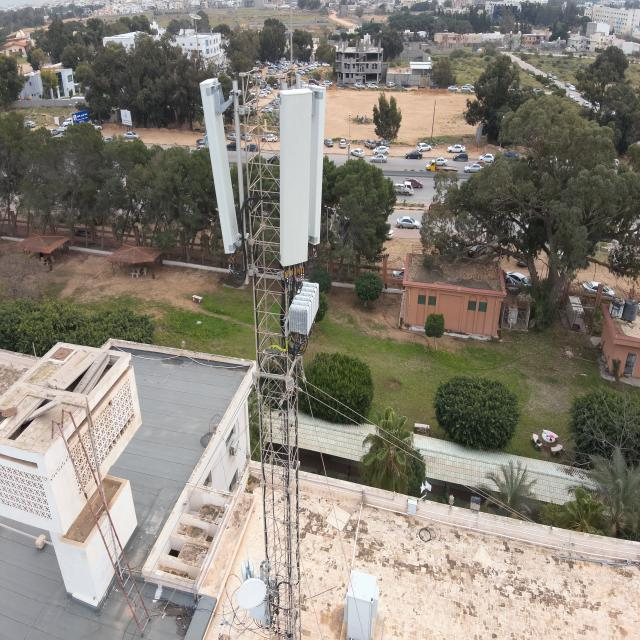antenna: (200, 77, 239, 255), (279, 85, 313, 268), (311, 82, 327, 245)
lighnig-rad: (286, 0, 294, 70)
microware-dish: (238, 556, 268, 612)
radio-unit: (287, 280, 323, 336)
